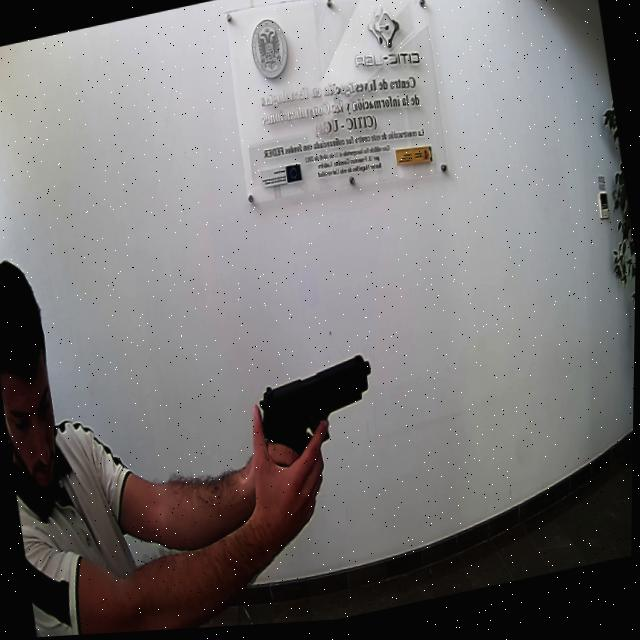pistol: (254, 355, 386, 468)
